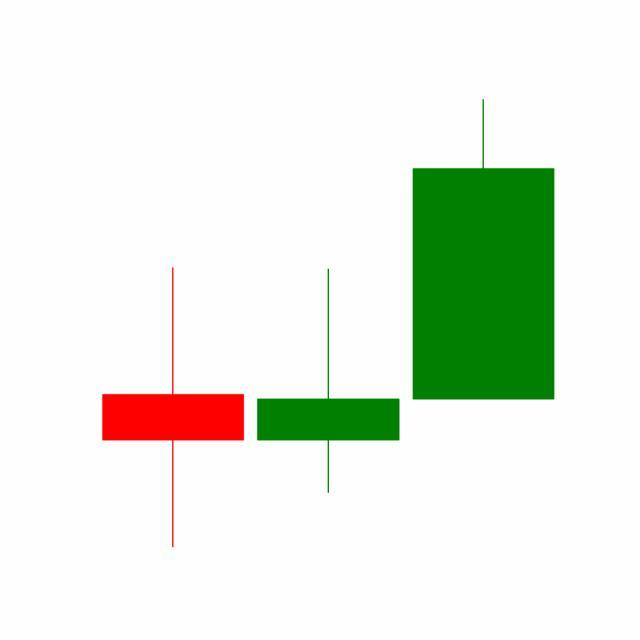Spinning Top: (250, 267, 407, 497)
